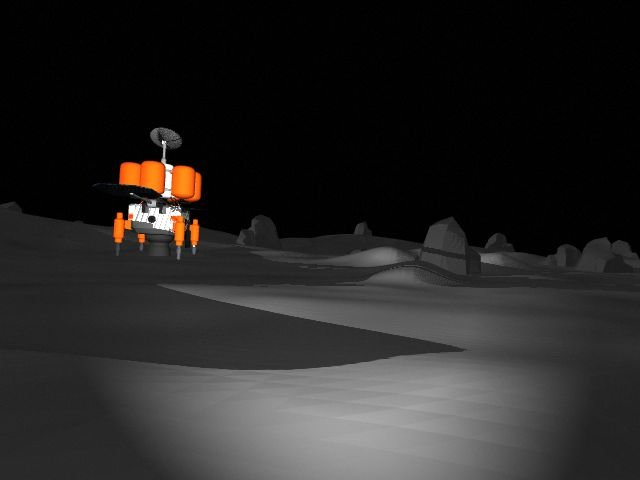homebase: (91, 123, 209, 263)
